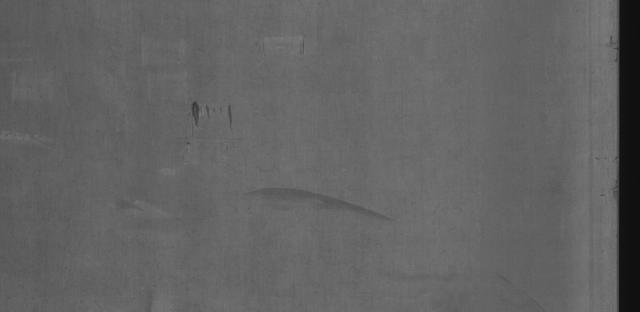inclusion: (184, 99, 205, 138)
water_spot: (231, 177, 432, 239)
